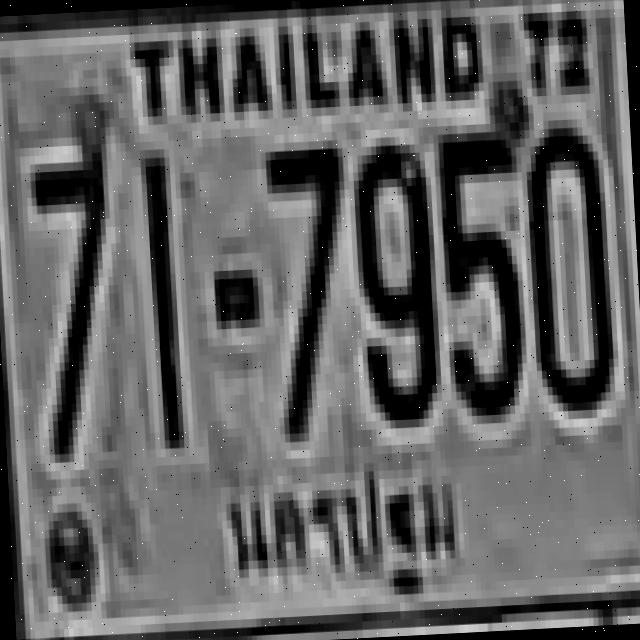0: (520, 118, 612, 404)
1: (140, 146, 180, 446)
5: (435, 123, 527, 409)
7: (26, 120, 120, 456), (260, 140, 352, 435)
9: (349, 136, 436, 422)
NakhonPathom: (210, 454, 473, 617)
